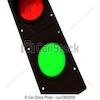green: (34, 21, 68, 74)
